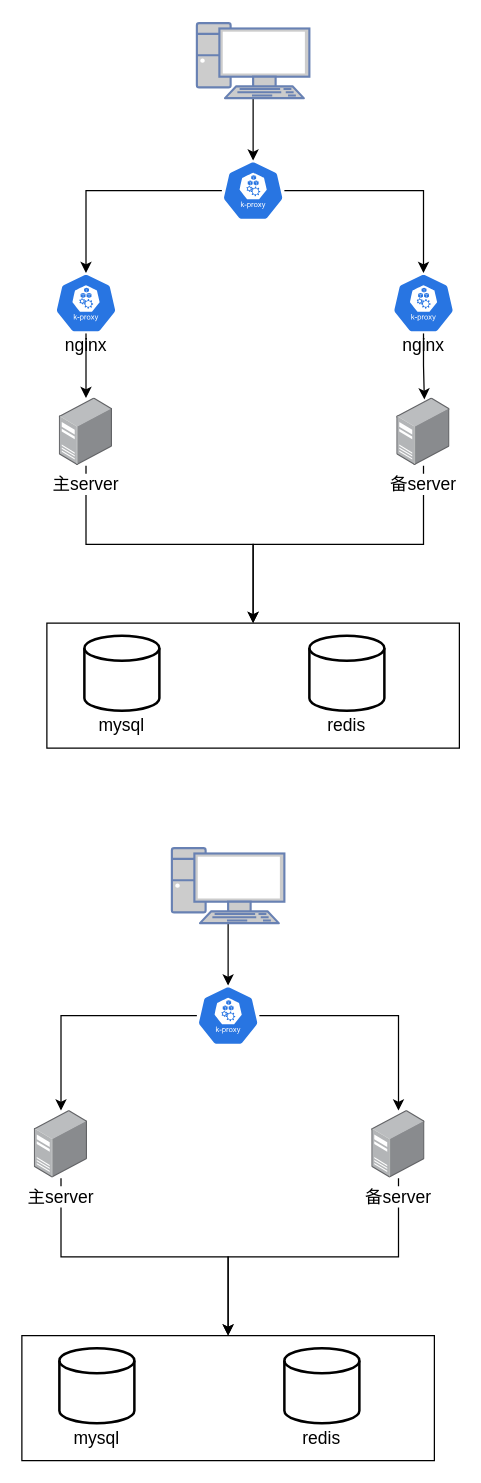
The diagram is 481 pixels wide and 1483 high, and some of its shapes have lost their labels. The centre of each missing label's shape, as x and y in pixels:
负载均衡: (x=227, y=1015)
阿里负载均衡: (x=252, y=190)
